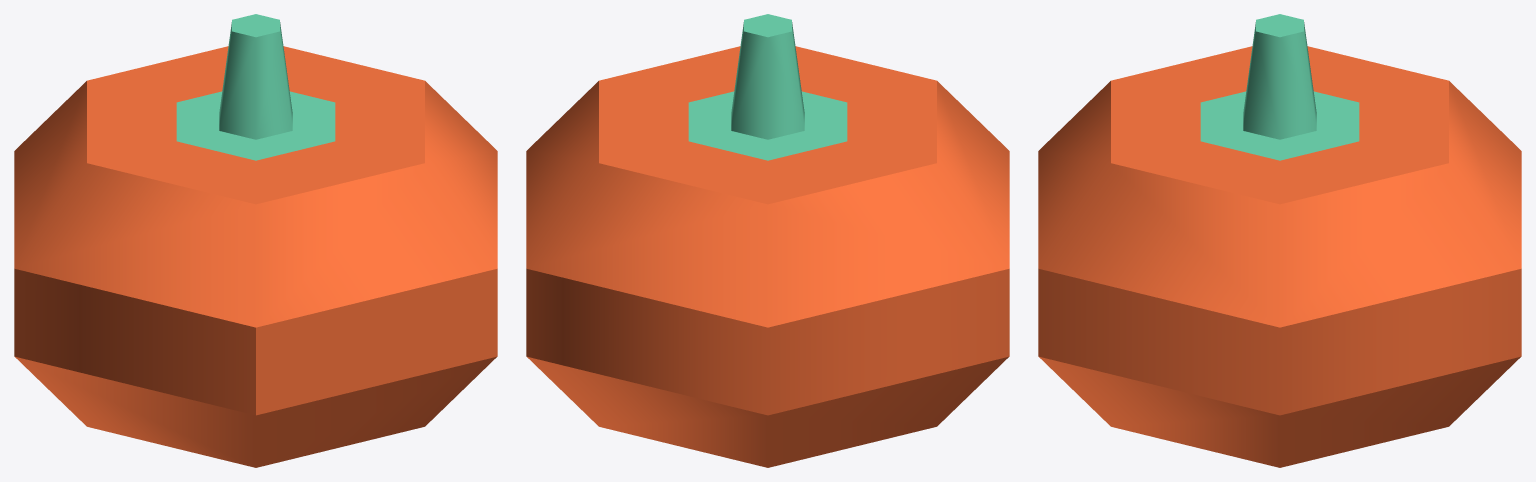
Rendered from pumpkinBasic.GLB.
The picture shows the model from 3 angles, left to right: view 1: azimuth 30°, elevation 25°; view 2: azimuth 150°, elevation 25°; view 3: azimuth 270°, elevation 25°; orthographic projection.
Parts seen in each view (by area): view 1: pumpkinBasic; view 2: pumpkinBasic; view 3: pumpkinBasic.
Part boxes in pixels (x1,y1,x2,y2): pumpkinBasic: (14,14,497,467); pumpkinBasic: (526,14,1009,467); pumpkinBasic: (1038,14,1521,467).
Size of the model in its own units: 0.42 by 0.299 by 0.3637.
